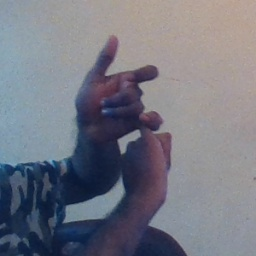S: (73, 28, 184, 197)
